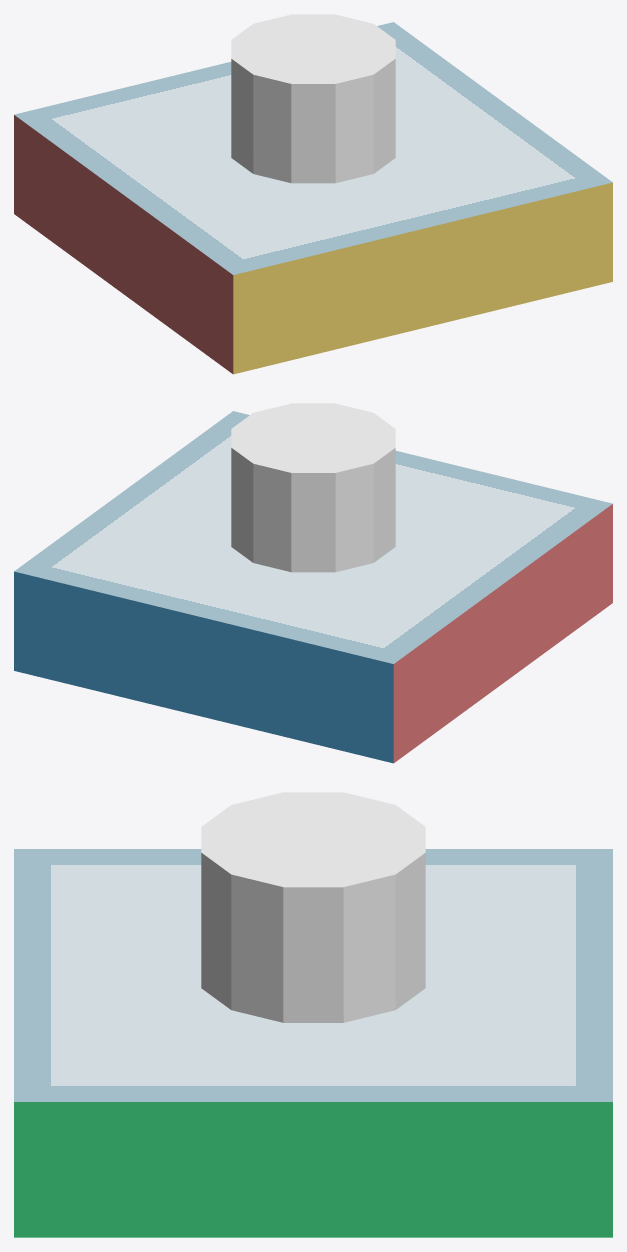
Rendered from tower_balls.glb.
The picture shows the model from 3 angles, top to bottom: view 1: azimuth 30°, elevation 25°; view 2: azimuth 150°, elevation 25°; view 3: azimuth 270°, elevation 25°; orthographic projection. The views are drawn at different scales.
Parts seen in each view (by area): view 1: cube, cylinder; view 2: cube, cylinder; view 3: cube, cylinder.
Part boxes in pixels (x1,y1,x2,y2): cube: (14, 22, 612, 374); cylinder: (231, 14, 395, 183); cube: (14, 411, 612, 763); cylinder: (231, 403, 395, 572); cube: (14, 849, 612, 1237); cylinder: (201, 792, 425, 1022).
Bounding box in the file's own units: 1 × 0.5 × 1.
2 materials, 1 textured.
